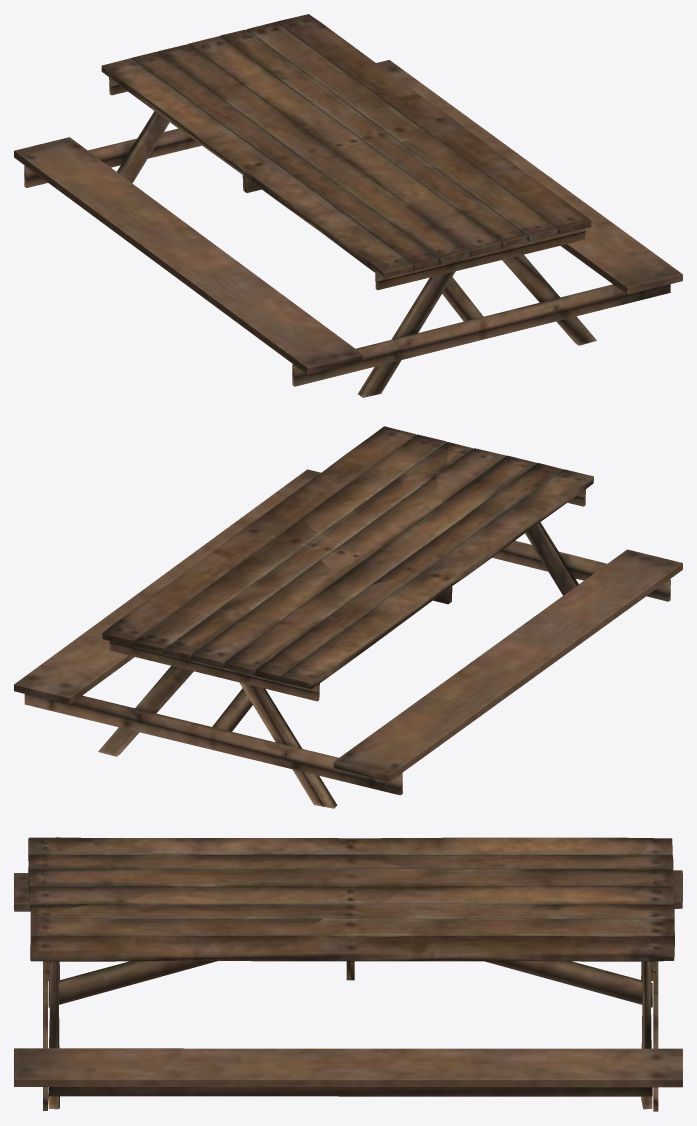
Rendered from picnic-table.lite.649b78b6.glb.
3 views of the same model, one above another, from view 1: azimuth 30°, elevation 25°; view 2: azimuth 150°, elevation 25°; view 3: azimuth 270°, elevation 25° (orthographic). The views are drawn at different scales.
Visible parts, largest first — view 1: model; view 2: model; view 3: model.
Part boxes in pixels (<box>): model: <box>14,14,682,397</box>; model: <box>14,426,682,808</box>; model: <box>14,837,682,1111</box>.
Size of the model in its own units: 2.24 by 0.7447 by 3.02.
Materials: 2 (2 with a texture image).
